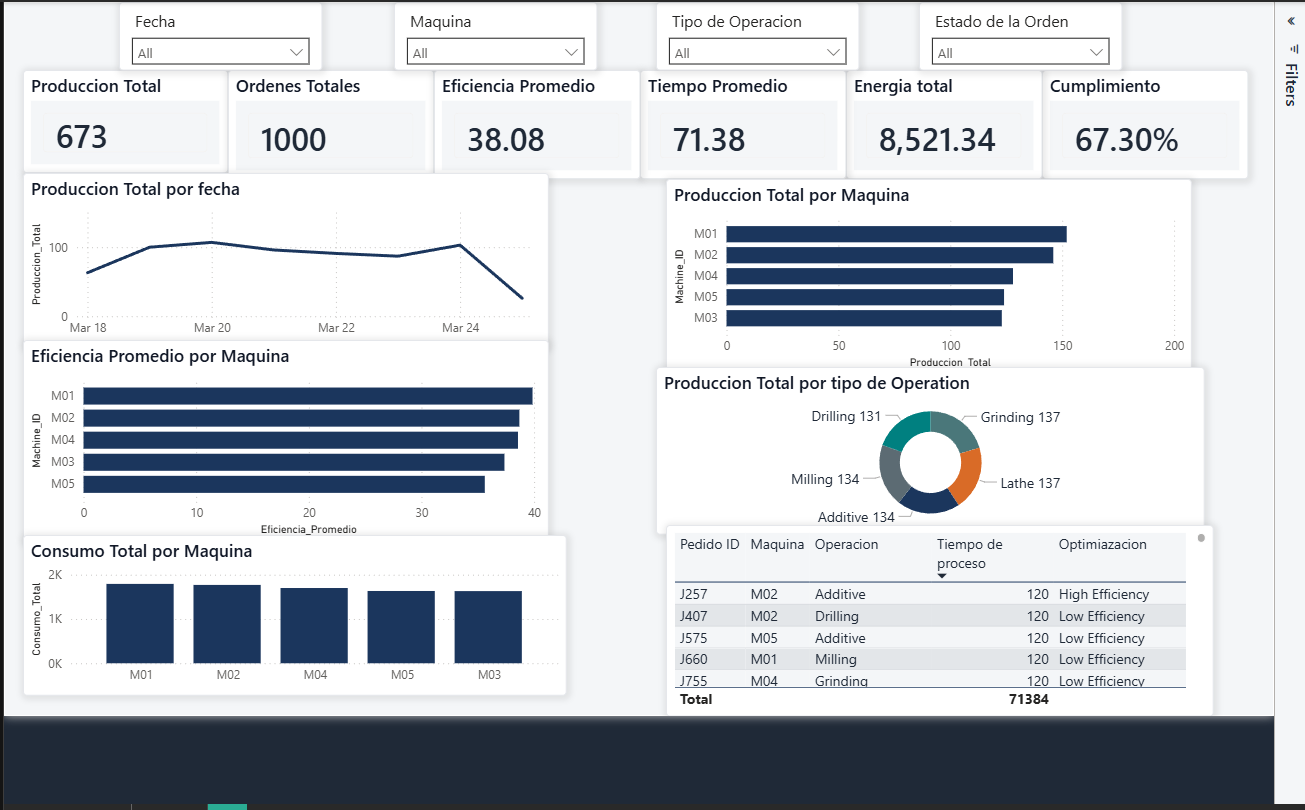

The dashboard page shown, as its layout file describes it:
{"tool":"powerbi","page":{"name":"Page 1","canvas":[1280,720],"ordinal":0},"visuals":[{"type":"cardVisual","title":"Produccion Total","fields":{"Data":["Medidas.Produccion_Total"]},"box":[19.1,68.5,206.6,103.8],"z":0},{"type":"cardVisual","title":"Cumplimiento","fields":{"Data":["Medidas.%_Cumplimiento"]},"box":[1046.2,68.5,207.6,109.9],"z":1000},{"type":"cardVisual","title":"Energia total","fields":{"Data":["Medidas.Consumo_Total"]},"box":[848.6,68.5,197.5,109.9],"z":2000},{"type":"cardVisual","title":"Tiempo Promedio","fields":{"Data":["Medidas.Tiempo_Pomedio_Produccion"]},"box":[641.2,69,207.5,109.7],"z":3000},{"type":"cardVisual","title":"Ordenes Totales","fields":{"Data":["Medidas.Ordenes_totales"]},"box":[226.2,69,207.5,109.7],"z":4000},{"type":"cardVisual","title":"Eficiencia Promedio","fields":{"Data":["Medidas.Eficiencia_Promedio"]},"box":[433.7,69,207.5,109.7],"z":5000},{"type":"lineChart","title":"Produccion Total por fecha","fields":{"Category":["Calendario.Date"],"Y":["Medidas.Produccion_Total"]},"box":[19.1,172.3,530.1,177.4],"z":6000},{"type":"clusteredBarChart","title":"Produccion Total por Maquina","fields":{"Category":["hybrid_manufacturing_categorical.Machine_ID"],"Y":["Medidas.Produccion_Total"]},"box":[667.2,178.4,530.1,198.6],"z":7000},{"type":"clusteredBarChart","title":"Eficiencia Promedio por Maquina","fields":{"Category":["hybrid_manufacturing_categorical.Machine_ID"],"Y":["Medidas.Eficiencia_Promedio"]},"box":[19.1,340.7,530.1,204.6],"z":8000},{"type":"donutChart","title":"Produccion Total por tipo de Operation","fields":{"Category":["hybrid_manufacturing_categorical.Operation_Type"],"Y":["Medidas.Produccion_Total"]},"box":[657.1,367.9,553.3,169.3],"z":9000},{"type":"clusteredColumnChart","title":"Consumo Total por Maquina","fields":{"Category":["hybrid_manufacturing_categorical.Machine_ID"],"Y":["Medidas.Consumo_Total"]},"box":[19.1,537.2,548.3,162.3],"z":10000},{"type":"tableEx","fields":{"Values":["hybrid_manufacturing_categorical.Job_ID","hybrid_manufacturing_categorical.Machine_ID","hybrid_manufacturing_categorical.Operation_Type","Sum(hybrid_manufacturing_categorical.Processing_Time)","hybrid_manufacturing_categorical.Optimization_Category"]},"box":[667.2,527.1,552.3,192.5],"z":11000},{"type":"slicer","fields":{"Values":["Calendario.Date"]},"box":[115.9,0,204.6,68.5],"z":12000},{"type":"slicer","fields":{"Values":["hybrid_manufacturing_categorical.Machine_ID"]},"box":[393.1,0,204.6,68.5],"z":13000},{"type":"slicer","fields":{"Values":["hybrid_manufacturing_categorical.Operation_Type"]},"box":[657.1,0,204.6,68.5],"z":14000},{"type":"slicer","fields":{"Values":["hybrid_manufacturing_categorical.Job_Status"]},"box":[922.2,0,204.6,68.5],"z":15000}]}

Visuals, with their boxes on the page's 1280x720 design canvas (x1, y1, x2, y2). These are canvas units, not pixel positions in the 1305x810 screenshot, which may show the page scaled, cropped or inside an application window:
"Produccion Total" cardVisual: 19/68/226/172
"Cumplimiento" cardVisual: 1046/68/1254/178
"Energia total" cardVisual: 849/68/1046/178
"Tiempo Promedio" cardVisual: 641/69/849/179
"Ordenes Totales" cardVisual: 226/69/434/179
"Eficiencia Promedio" cardVisual: 434/69/641/179
"Produccion Total por fecha" lineChart: 19/172/549/350
"Produccion Total por Maquina" clusteredBarChart: 667/178/1197/377
"Eficiencia Promedio por Maquina" clusteredBarChart: 19/341/549/545
"Produccion Total por tipo de Operation" donutChart: 657/368/1210/537
"Consumo Total por Maquina" clusteredColumnChart: 19/537/567/700
tableEx - hybrid_manufacturing_categorical.Job_ID x hybrid_manufacturing_categorical.Machine_ID: 667/527/1220/720
slicer - Calendario.Date: 116/0/320/68
slicer - hybrid_manufacturing_categorical.Machine_ID: 393/0/598/68
slicer - hybrid_manufacturing_categorical.Operation_Type: 657/0/862/68
slicer - hybrid_manufacturing_categorical.Job_Status: 922/0/1127/68
